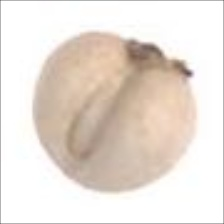L5: (63, 61, 134, 159), (123, 36, 197, 84), (44, 142, 96, 189)
L6: (31, 31, 201, 196)
